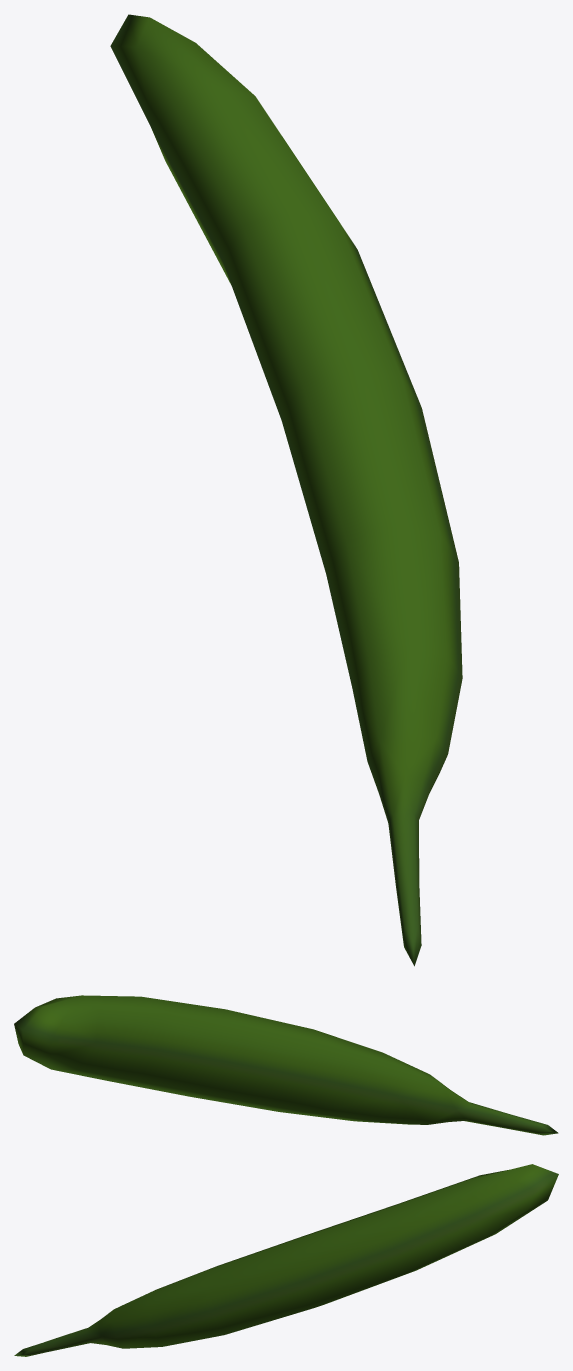
File: GreenBean (10).fbx
3 renders of one model, top to bottom at view 1: azimuth 30°, elevation 25°; view 2: azimuth 150°, elevation 25°; view 3: azimuth 270°, elevation 25°, orthographic. The views are drawn at different scales.
Visible parts, largest first — view 1: Apple (4); view 2: Apple (4); view 3: Apple (4).
Part boxes in pixels (bbox=[...]): Apple (4): bbox=[110, 14, 462, 966]; Apple (4): bbox=[14, 995, 558, 1135]; Apple (4): bbox=[14, 1164, 558, 1356].
Bounding box in the file's own units: 0.4612 × 0.6916 × 1.35.
